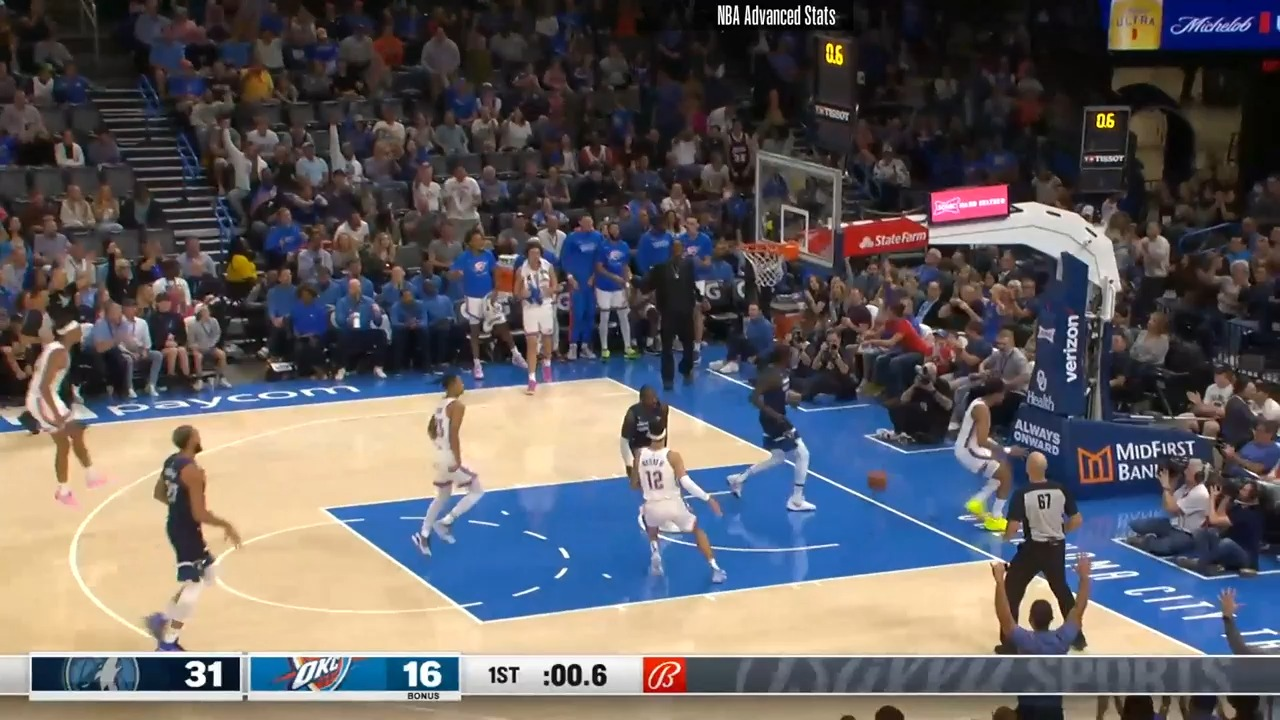net: (737, 233, 804, 298)
player: (138, 422, 245, 654), (622, 409, 724, 593), (14, 315, 101, 508), (719, 343, 813, 517), (413, 370, 491, 562), (955, 377, 1018, 545), (619, 386, 679, 457)
referee: (991, 453, 1096, 646)
